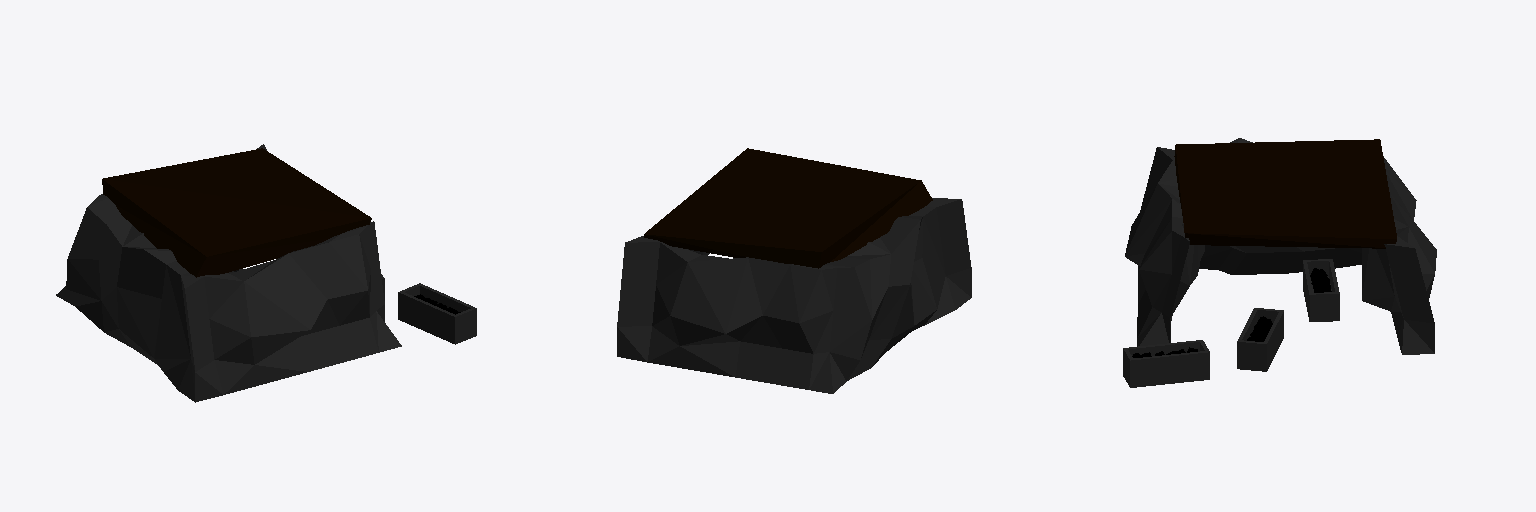
The model's file is mine.obj.
The picture shows the model from 3 angles: view 1: azimuth 30°, elevation 25°; view 2: azimuth 150°, elevation 25°; view 3: azimuth 270°, elevation 25°; orthographic projection.
Visible parts, largest first — view 1: Cube; view 2: Cube; view 3: Cube.
Part boxes in pixels (x1,y1,x2,y2): Cube: (56, 144, 476, 402); Cube: (617, 148, 971, 393); Cube: (1123, 138, 1436, 387).
Size of the model in its own units: 7.46 by 3.21 by 6.93.